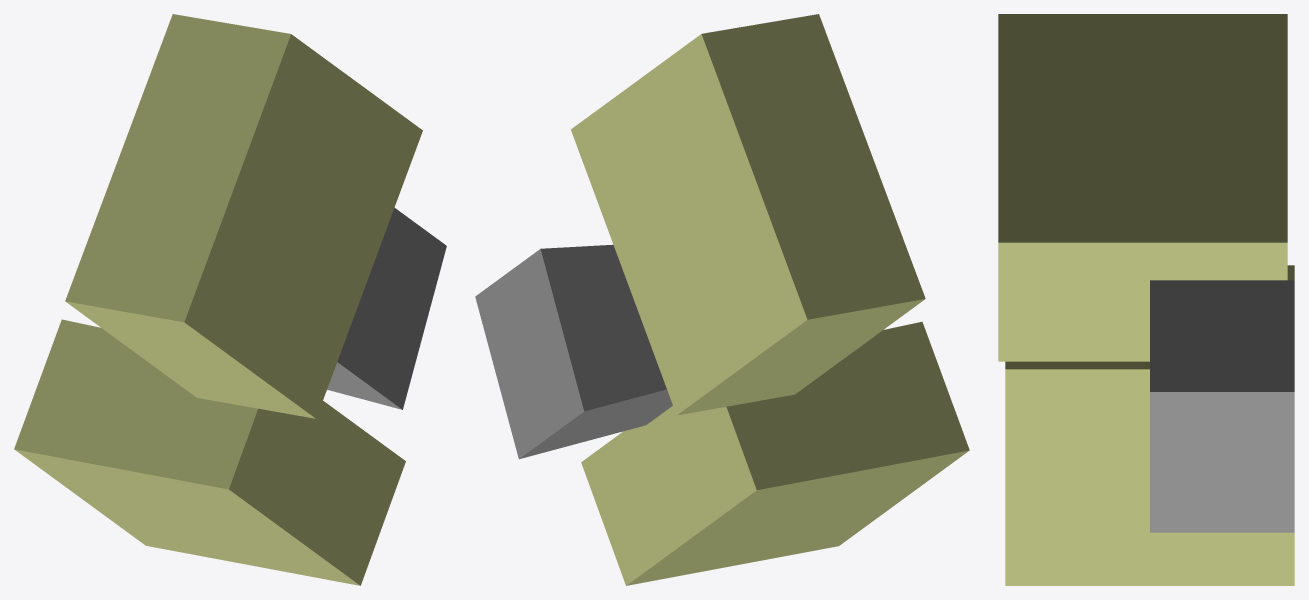
3 views of the same model, side by side, from view 1: azimuth 30°, elevation 25°; view 2: azimuth 150°, elevation 25°; view 3: azimuth 270°, elevation 25° (orthographic). The views are drawn at different scales.
Visible parts, largest first — view 1: 0_1_1_3_3_1_1_3_3_0_0; view 2: 0_1_1_3_3_1_1_3_3_0_0; view 3: 0_1_1_3_3_1_1_3_3_0_0.
Part boxes in pixels (bbox=[...]): 0_1_1_3_3_1_1_3_3_0_0: bbox=[14, 14, 446, 585]; 0_1_1_3_3_1_1_3_3_0_0: bbox=[475, 14, 969, 585]; 0_1_1_3_3_1_1_3_3_0_0: bbox=[998, 14, 1294, 585].
Size of the model in its own units: 9.64 by 12.36 by 6.15.
